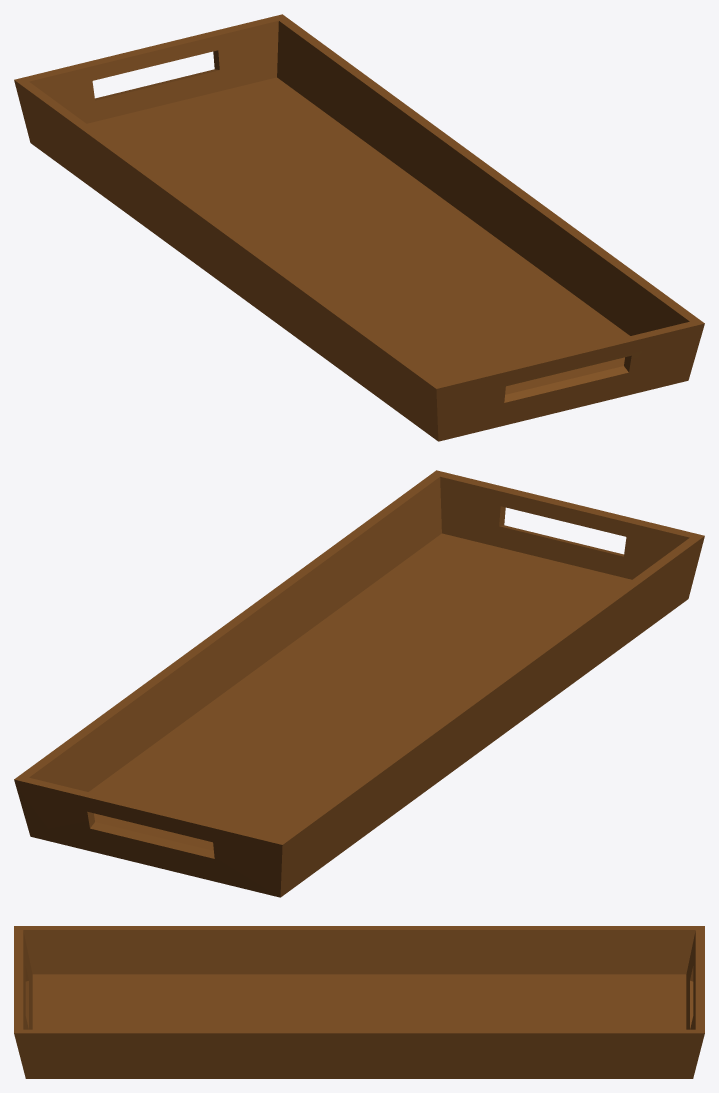
File: FoodProp_4_2_B.fbx
3 views of the same model, one above another, from view 1: azimuth 30°, elevation 25°; view 2: azimuth 150°, elevation 25°; view 3: azimuth 270°, elevation 25° (orthographic). The views are drawn at different scales.
Visible parts, largest first — view 1: FoodProp_4_2_B; view 2: FoodProp_4_2_B; view 3: FoodProp_4_2_B.
Boxes of the visible parts, left/top/right/bottom form: FoodProp_4_2_B: left=14, top=14, right=704, bottom=441; FoodProp_4_2_B: left=14, top=470, right=704, bottom=897; FoodProp_4_2_B: left=14, top=926, right=704, bottom=1078.
Bounding box in the file's own units: 22.66 × 4.86 × 61.74.
